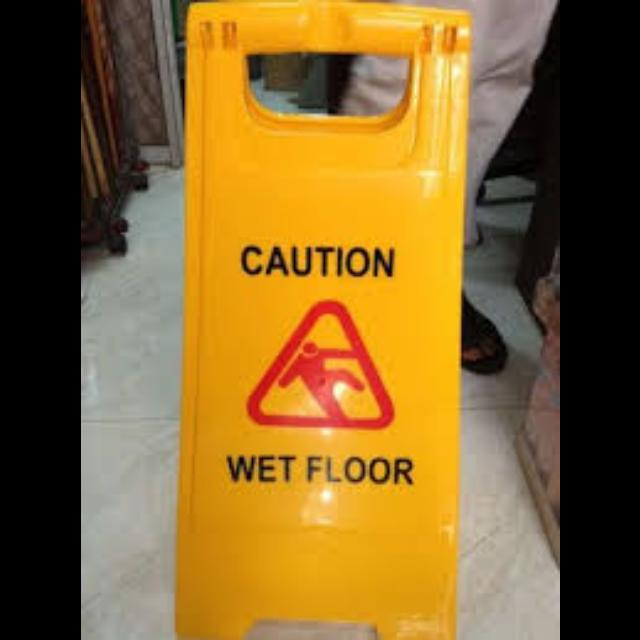slippery_floor: (176, 0, 465, 638)
